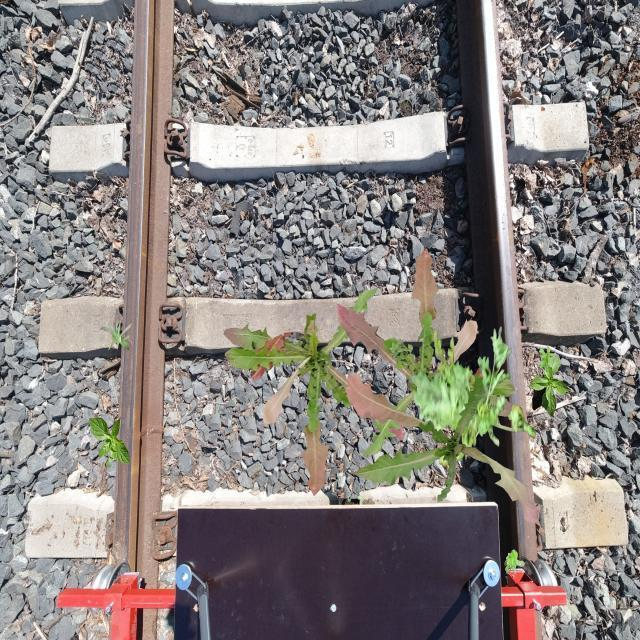Plant: (224, 288, 404, 497), (337, 248, 517, 457), (346, 372, 538, 524), (411, 326, 536, 473), (530, 357, 572, 417), (89, 415, 130, 468), (100, 317, 132, 352), (390, 339, 414, 369), (504, 550, 524, 575), (539, 346, 556, 370)
